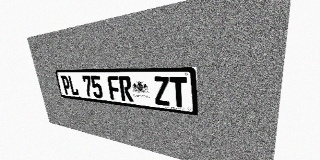5: (90, 76, 103, 99)
7: (81, 75, 94, 97)
F: (107, 76, 121, 101)
L: (67, 75, 79, 96)
P: (60, 75, 72, 95)
R: (118, 76, 133, 102)
T: (169, 76, 188, 108)
Z: (153, 76, 170, 106)
